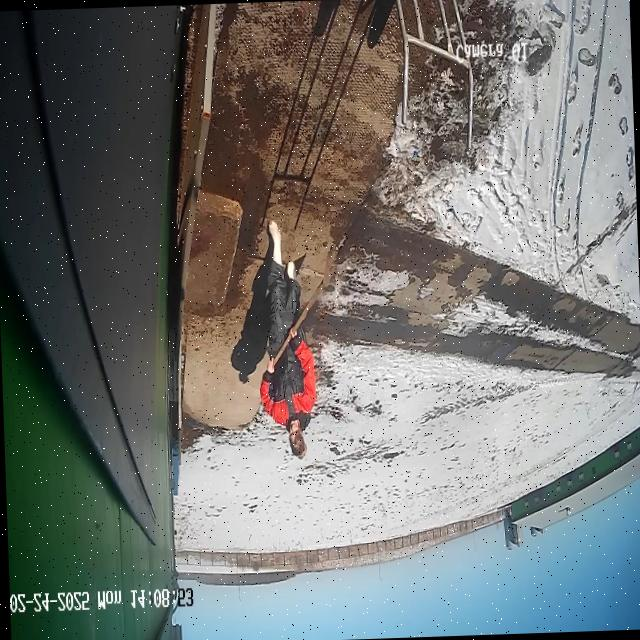Red uniform: (252, 216, 319, 462)
